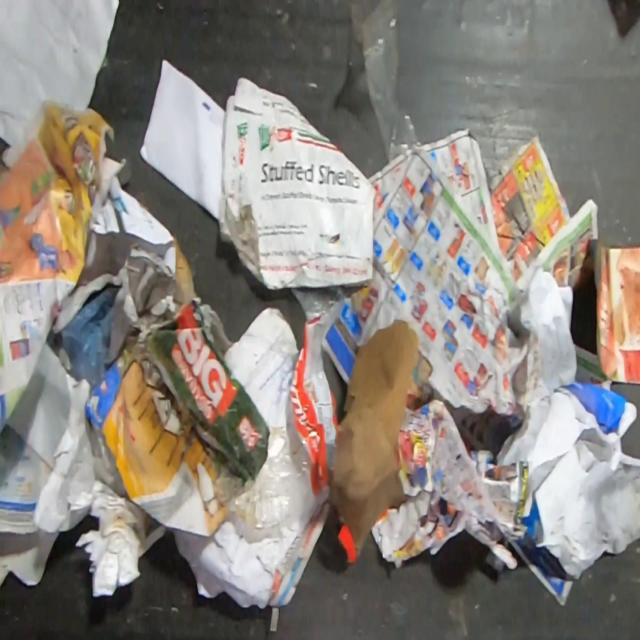cardboard: (218, 75, 377, 289), (289, 315, 338, 495)
soft_plastic: (213, 421, 336, 531), (347, 0, 422, 164), (289, 286, 346, 327)
